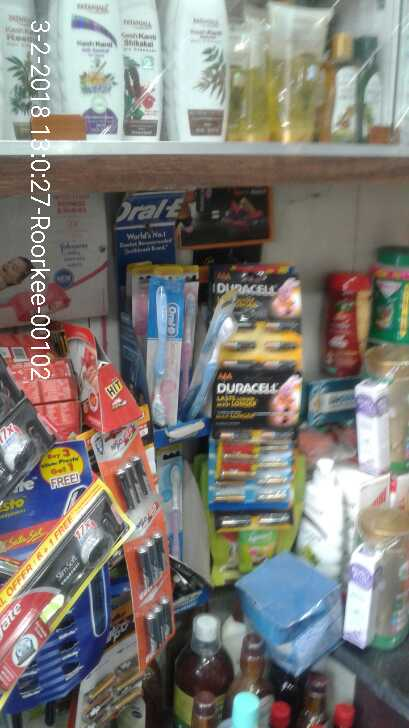oralb: (145, 264, 180, 426)
